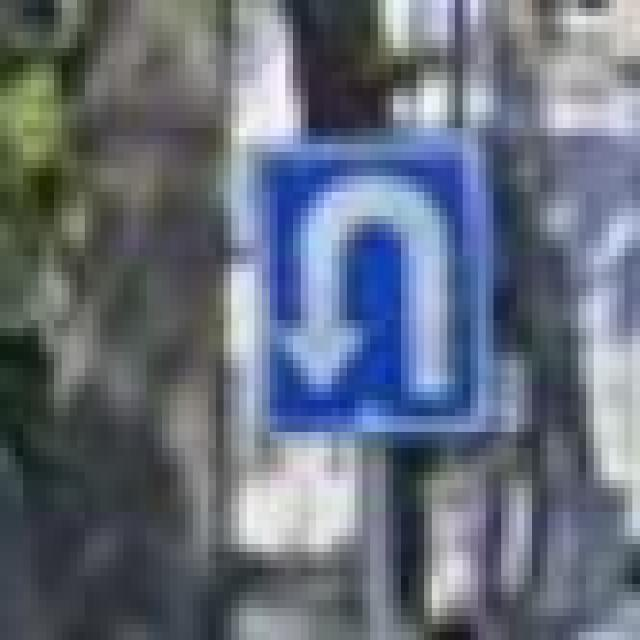U-turn: (257, 146, 471, 421)
